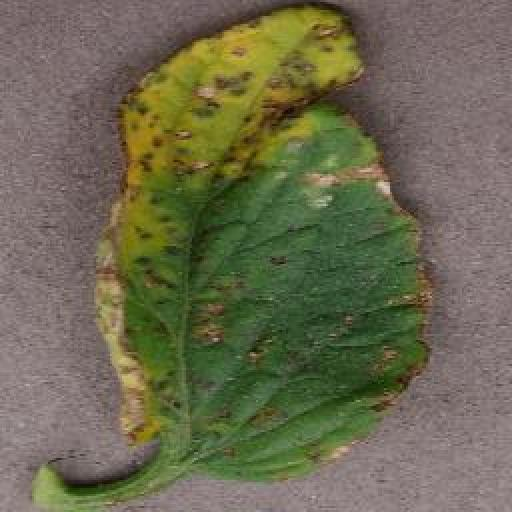Bacterial Spot: (91, 0, 437, 488)
